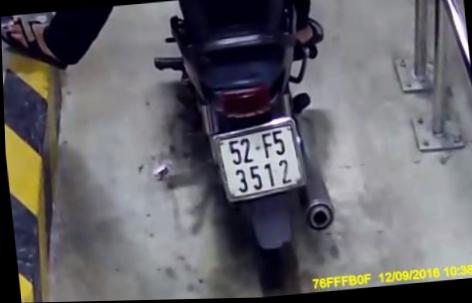LP: (205, 117, 311, 205)
